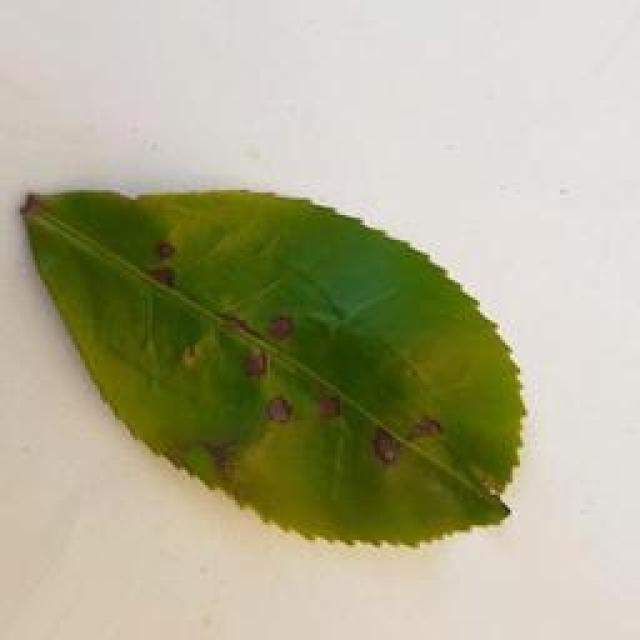Helopeltis: (20, 177, 524, 548)
